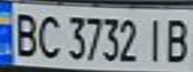2: (118, 15, 142, 64)
3: (63, 12, 87, 61), (103, 15, 121, 63)
7: (81, 14, 103, 62)
B: (9, 8, 42, 59), (160, 15, 193, 64)
C: (33, 10, 63, 60)
I: (142, 15, 169, 64)
